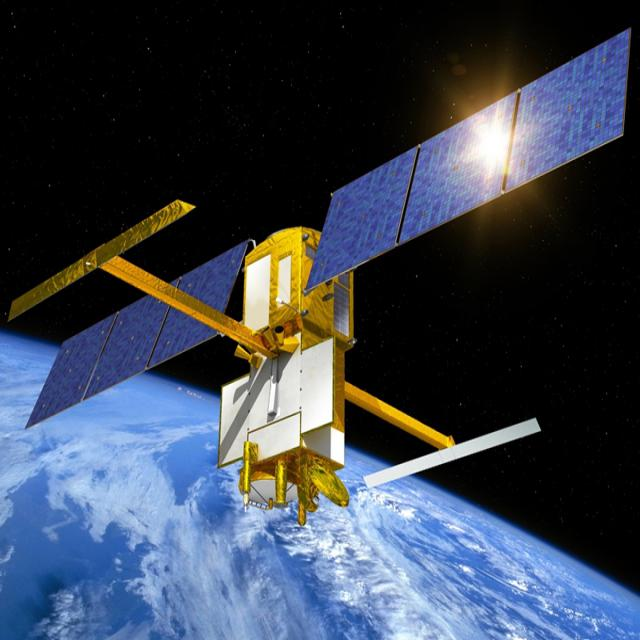satellite: (6, 21, 628, 545)
